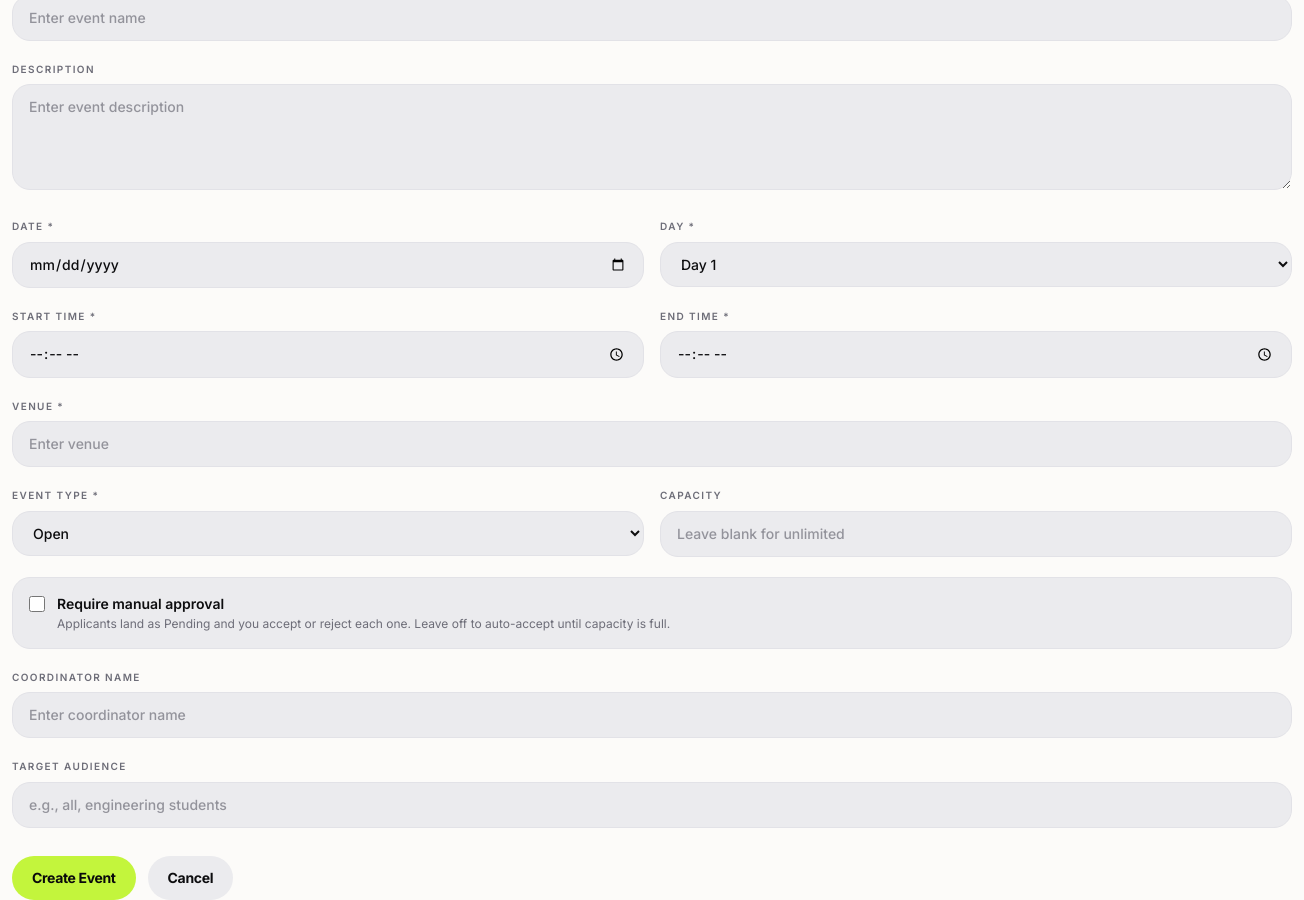
Test case: EventForm › validates required fields on submit
The image size is (1304, 900).
(page scrolled)
Click the button "Create Event". click: (74, 878)
box: [12,856,136,899]
(page scrolled)
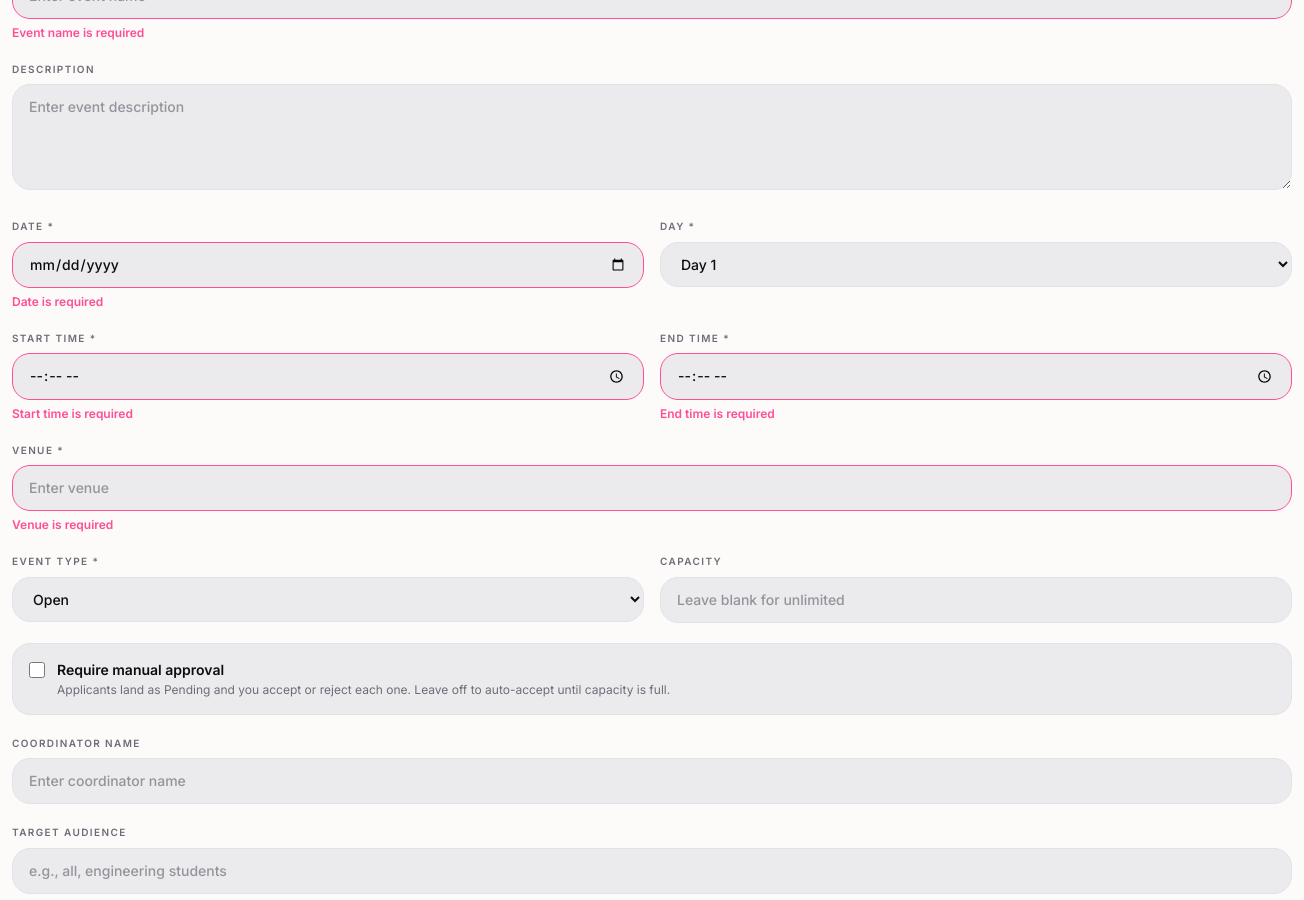
Expected: the text "Event name is required" is shown, [12,24,144,40]
Expected: the text "Date is required" is shown, [12,294,103,308]
Expected: the text "Start time is required" is shown, [12,406,133,421]
